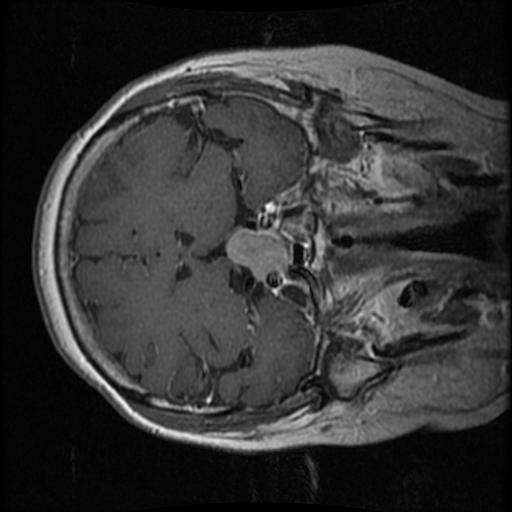pituitary tumour: (225, 228, 288, 280)
